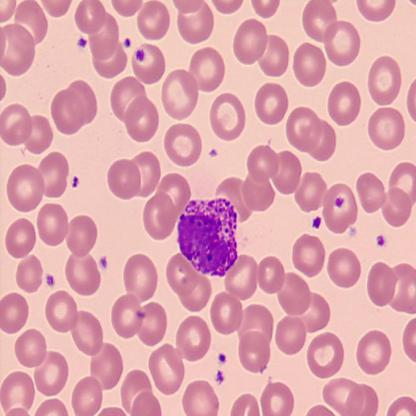Basophil: (176, 197, 238, 278)
